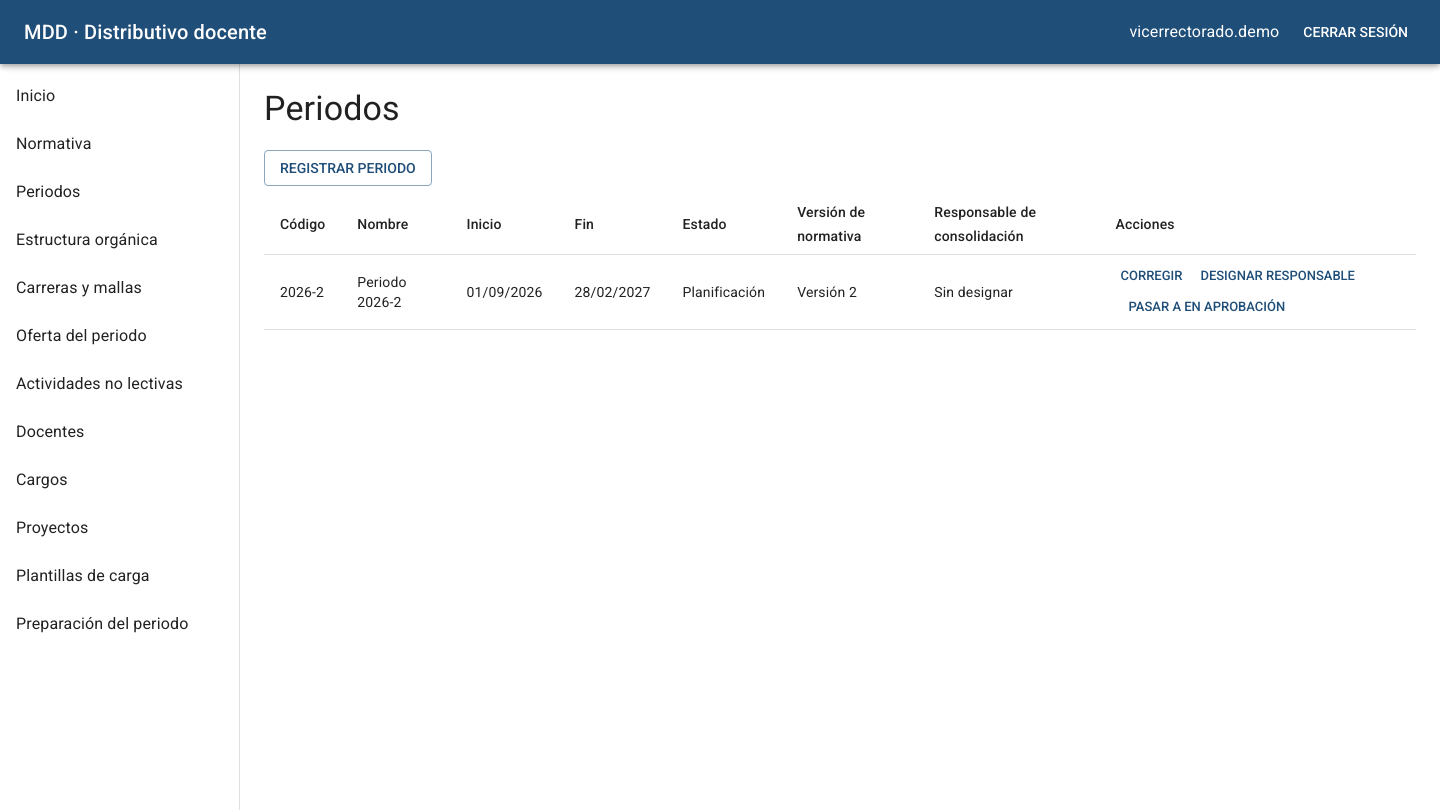
Test case: Periodos › pasa a En aprobación sin confirmación, y un 409 se muestra con su título
Click the button with aria-label "Pasar 2026-2 a En aprobación" at coordinates (1207, 308), box [1124, 292, 1290, 323]
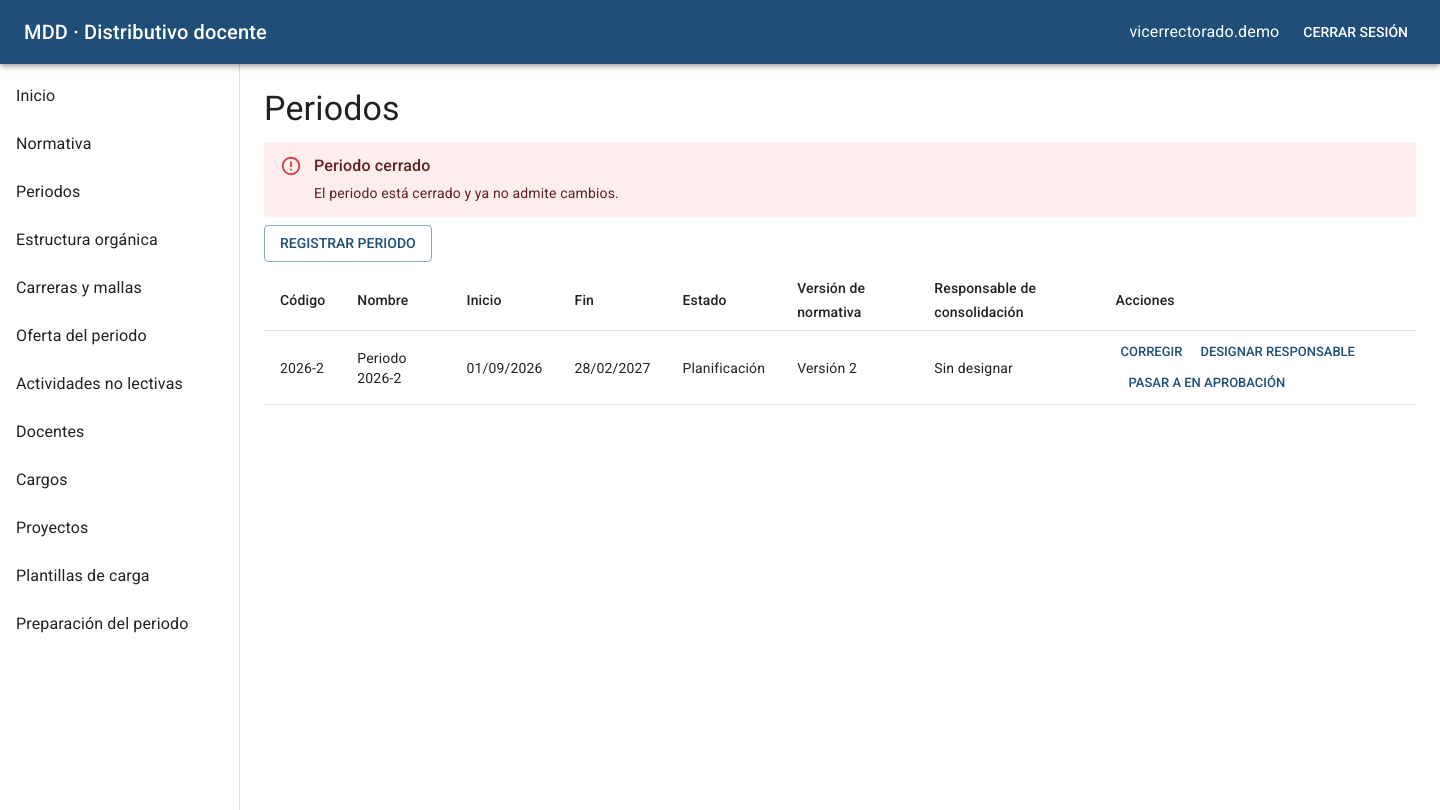
Now the message shows "Periodo cerrado", box [314, 156, 430, 175]
